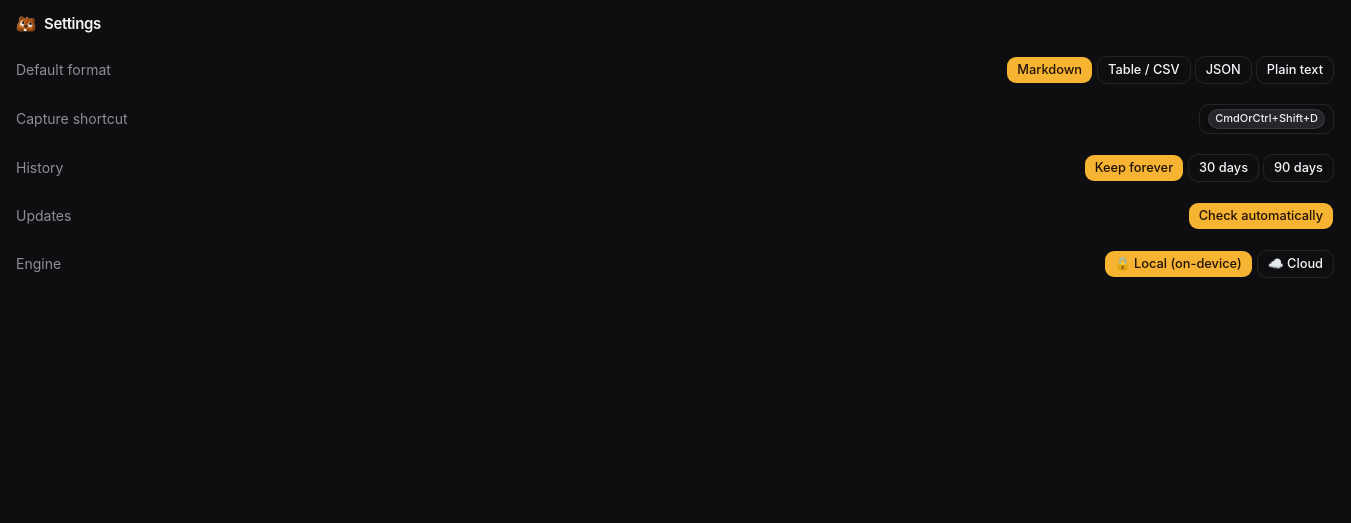
Test: SettingsPanel › choosing local closes the cloud panel
Click the button "☁️ Cloud": point(1295, 264) [1257, 250, 1334, 278]
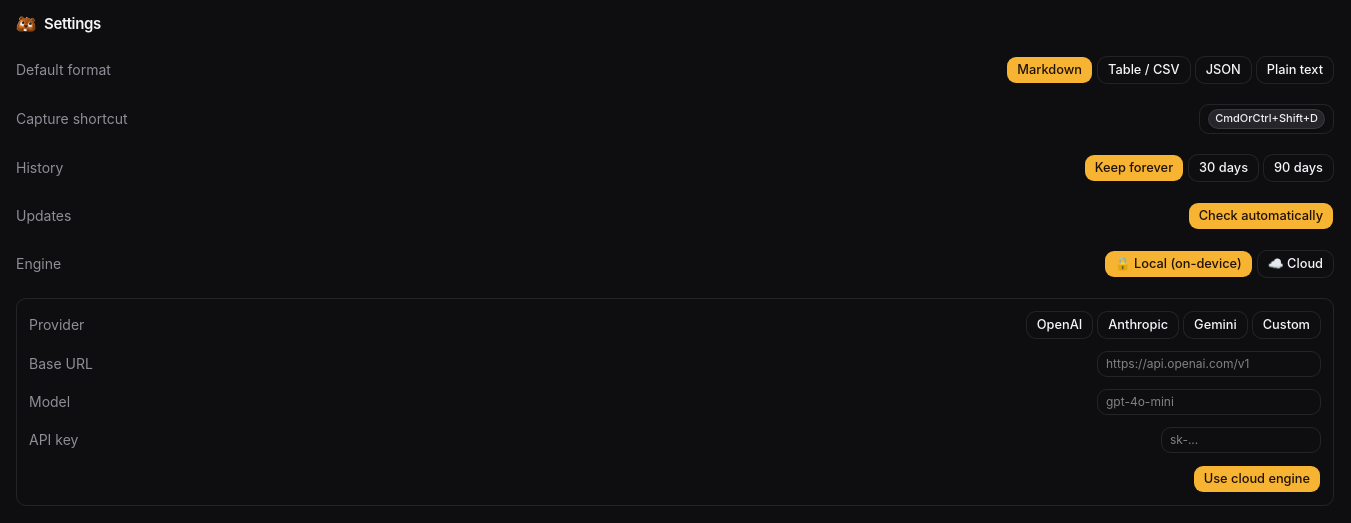
Result: the field named "Base URL" is shown at [1097, 350, 1321, 376]
Click the button "🔒 Local (on-device)": point(1178, 264) [1104, 250, 1253, 278]
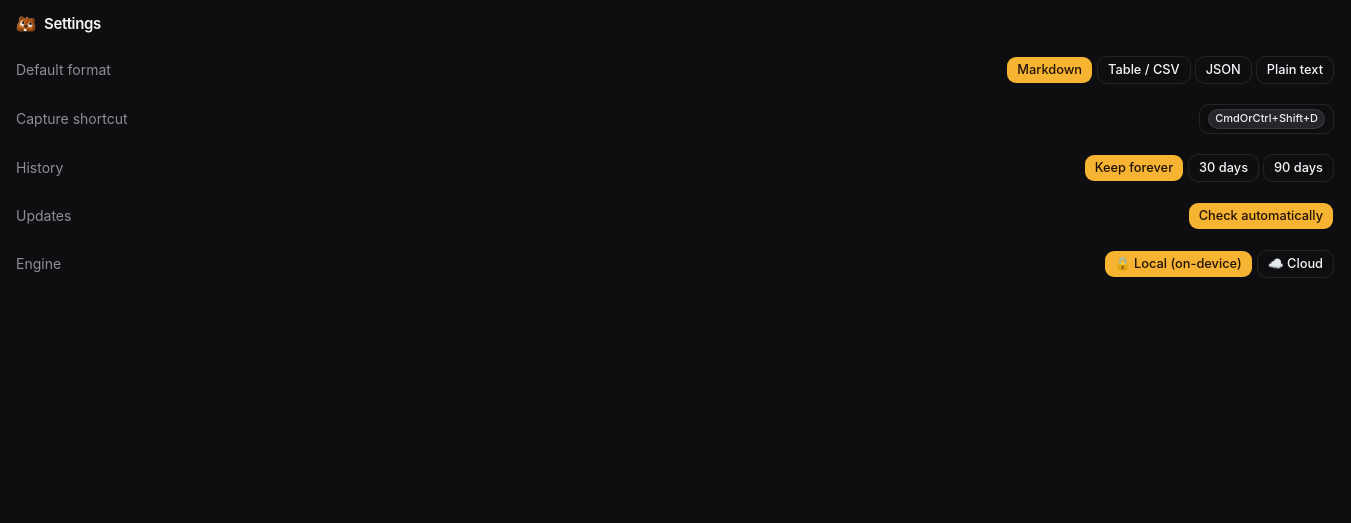
Result: the text labelled "Base URL" is gone
